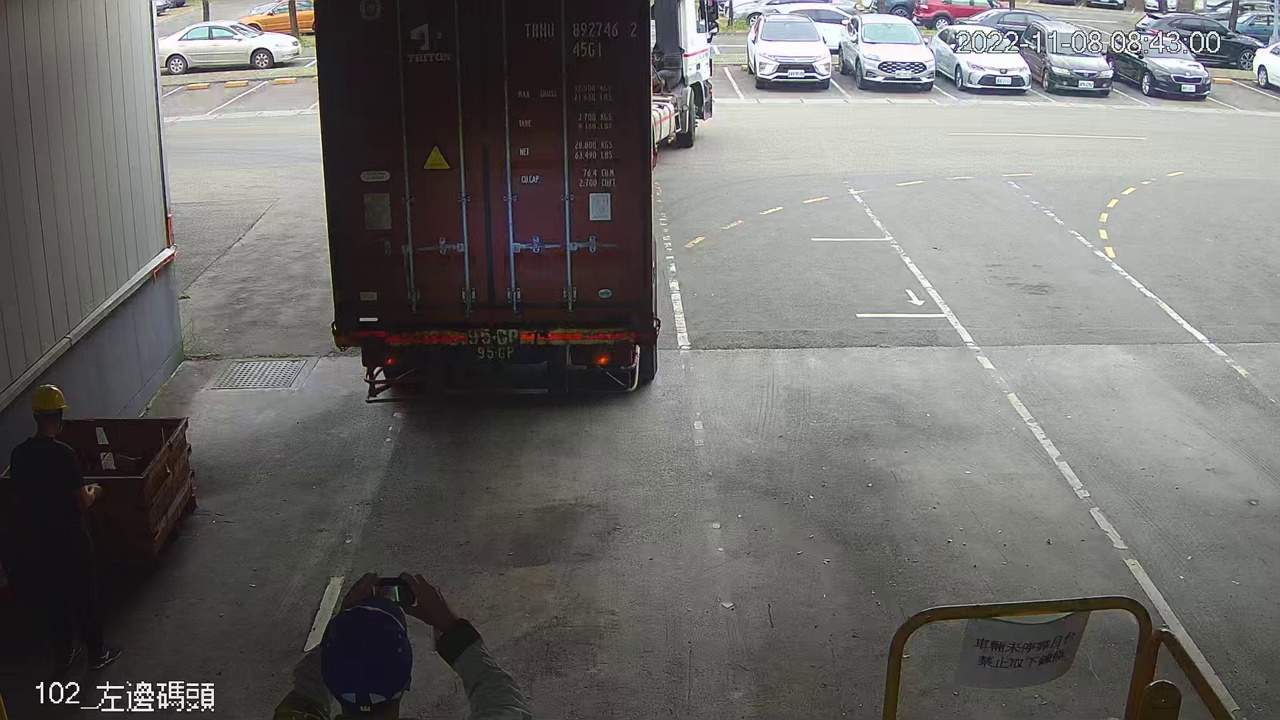container: (517, 15, 642, 64)
